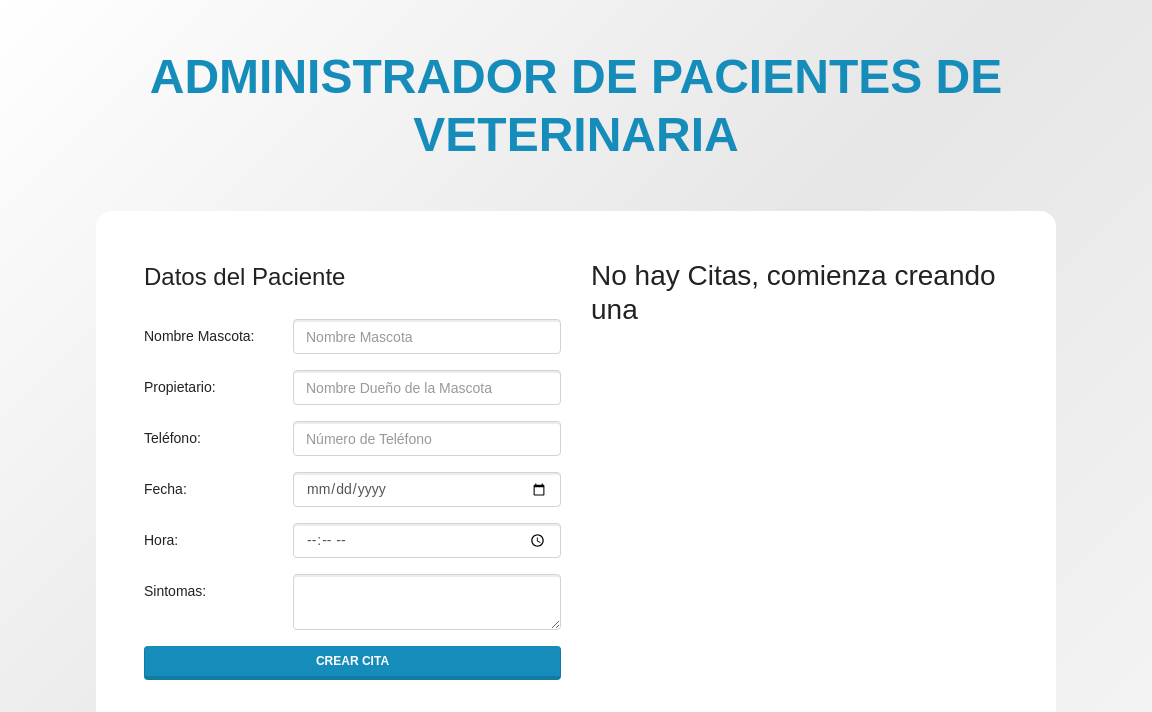
Test: Llenar los campos del form y elimina la cita › Agrega una cita correctamente
The image size is (1152, 712).
Step 1. Type "Alay" into the field with id "mascota" → (427, 337), box [293,319,561,354]
Step 2. Type "Jesus" into the field with placeholder "Nombre Dueño de la Mascota" → (427, 388), box [293,370,561,405]
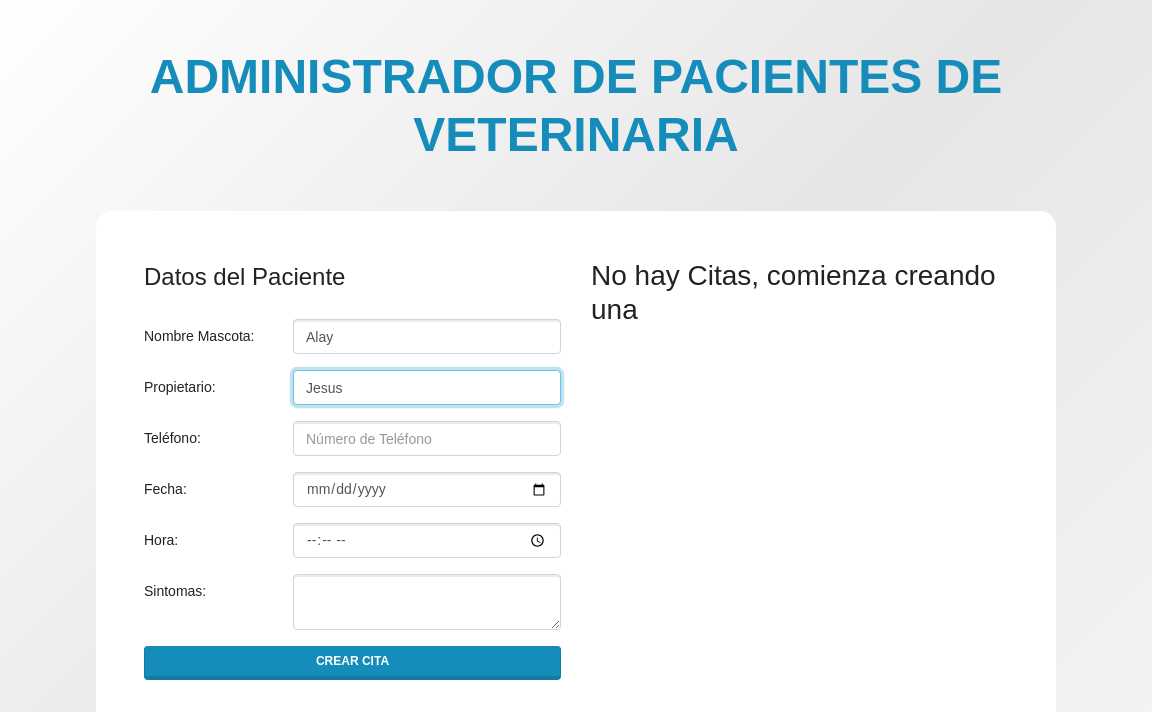
Step 3. Type "676485672" into the field with id "telefono" → (427, 439), box [293,421,561,456]
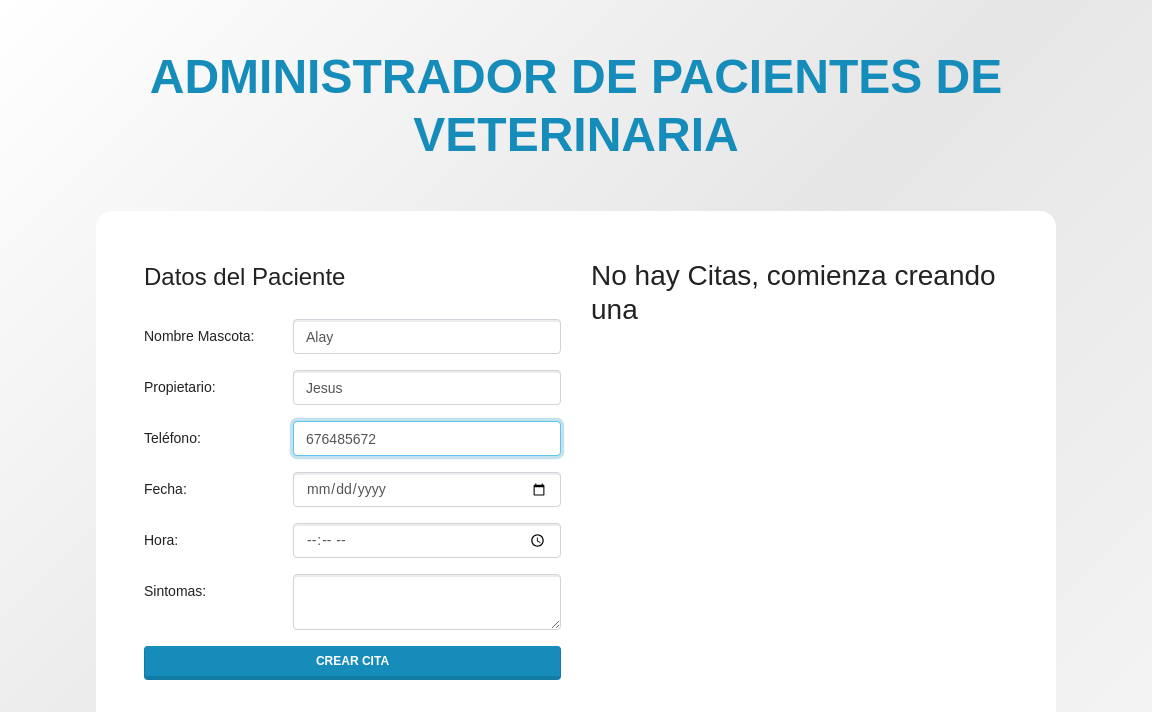
Step 4. Type "2021-07-03" into the date field with id "fecha" → (427, 490), box [293,472,561,507]
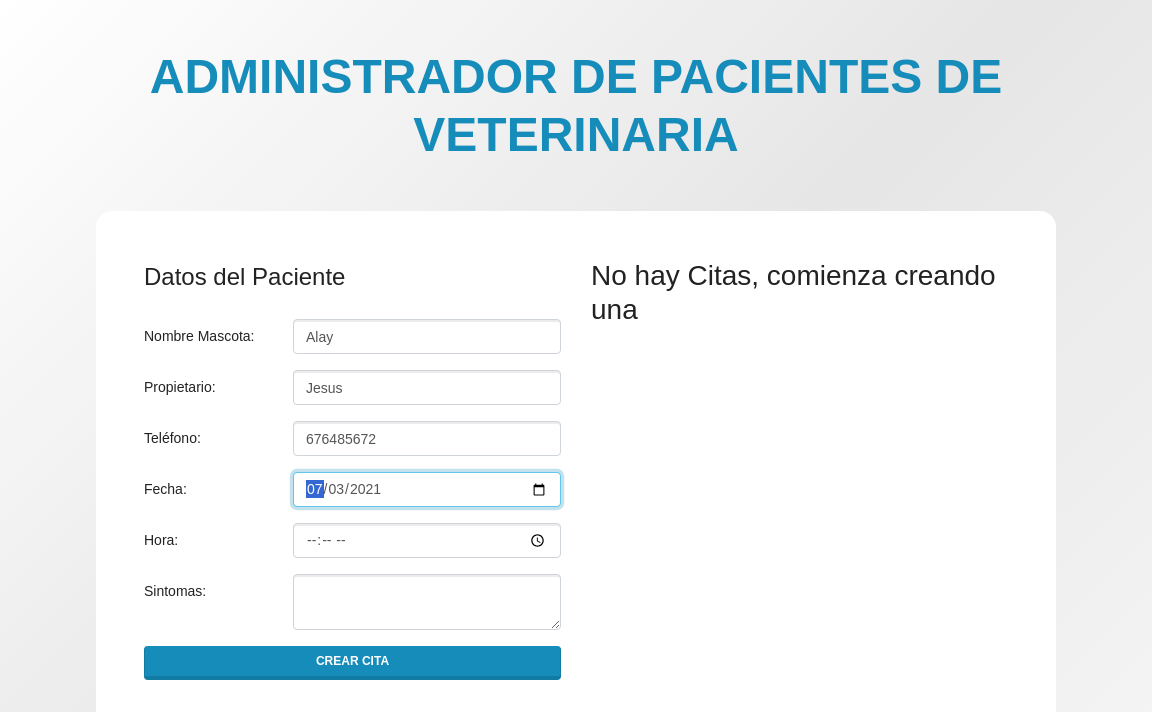
Step 5. Type "12:20" into the time field with id "hora" → (427, 541), box [293,523,561,558]
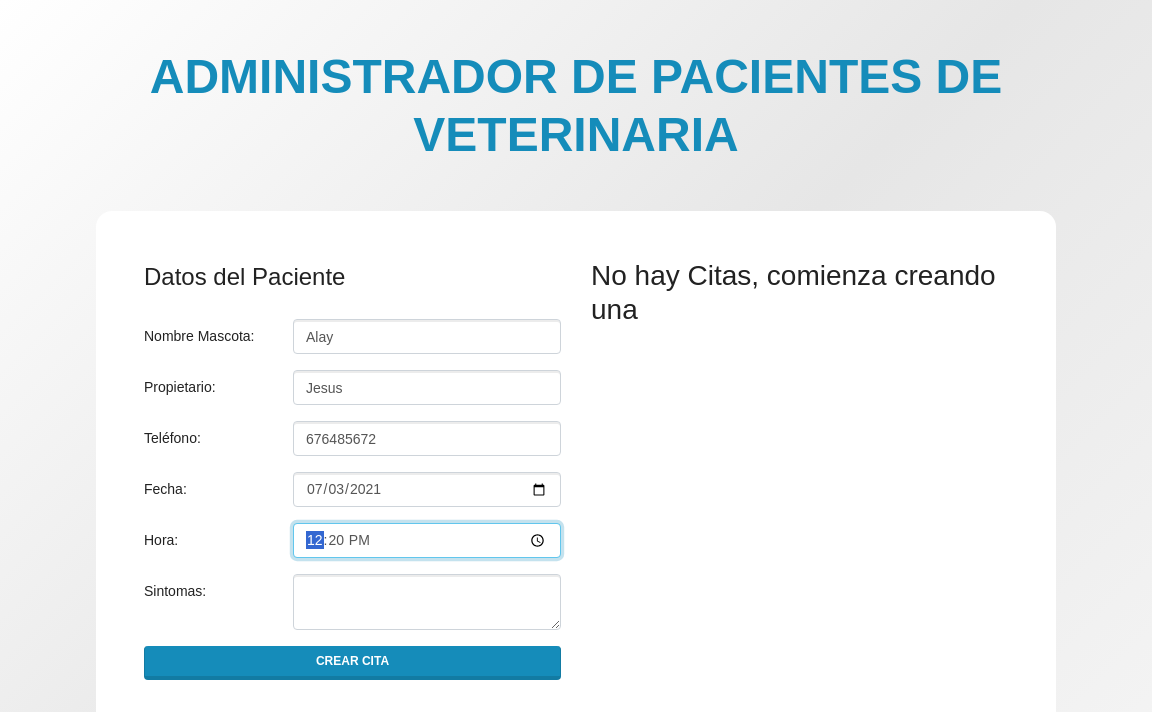
Step 6. Type "Vomitos" into the text box with id "sintomas" → (427, 602), box [293,574,561,630]
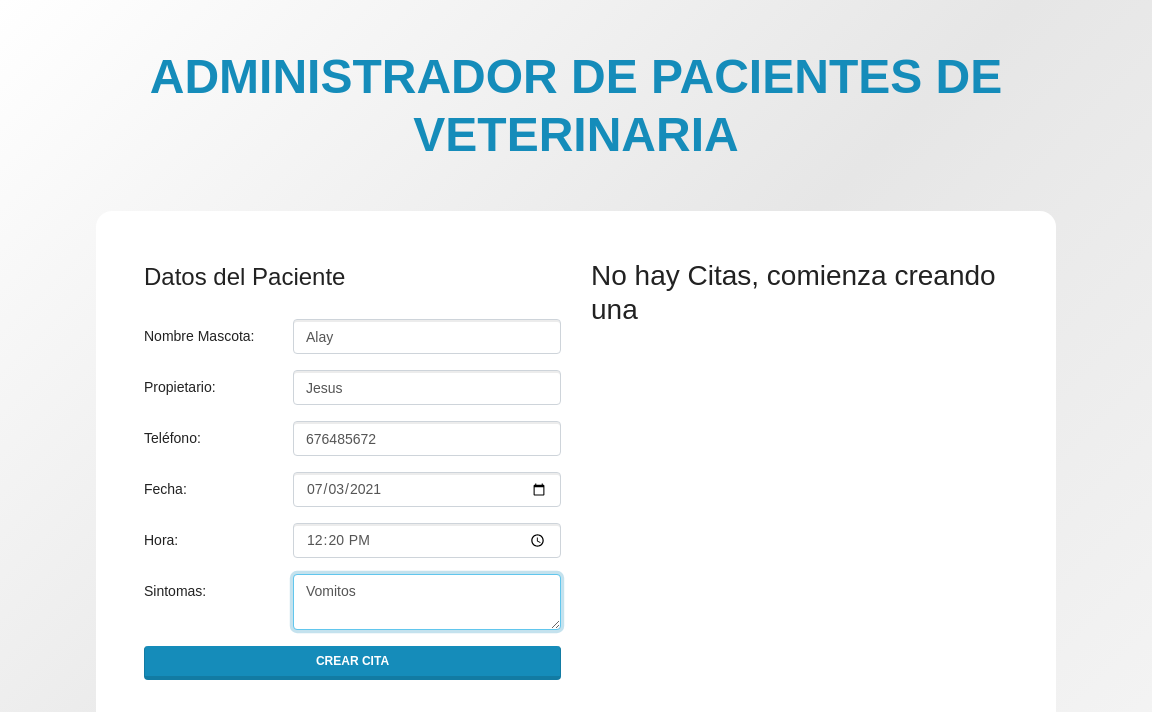
Step 7. Click the button "Crear Cita" → (353, 663), box [144,646,561,680]
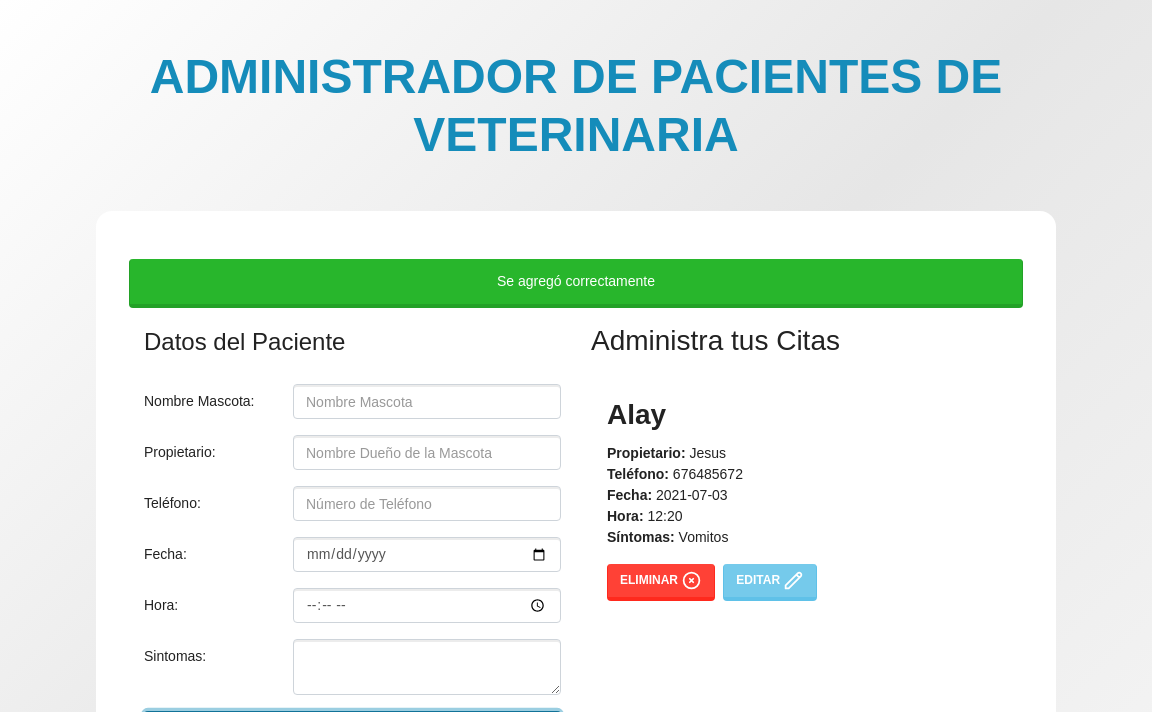
Result: the text with class "alert" reads "Se agregó correctamente" at [129,259,1023,308]
Result: the heading with test id "citas-heading" reads "Administra tus Citas" at [591,325,840,356]
